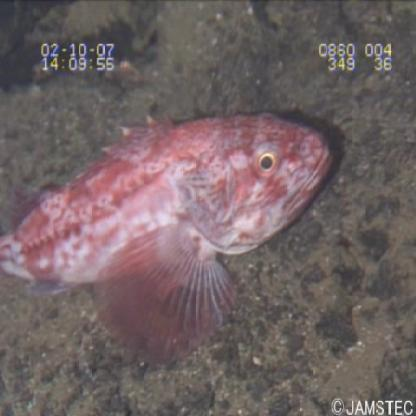Bio: (1, 105, 342, 370)
